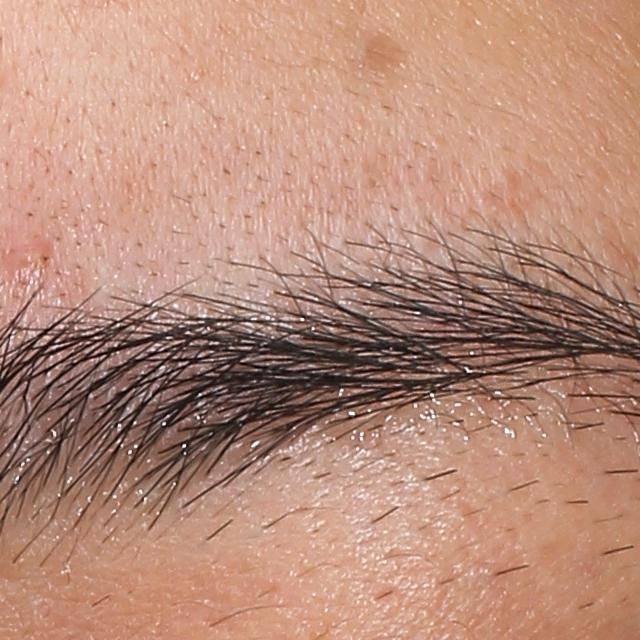papule: (5, 231, 55, 273)
